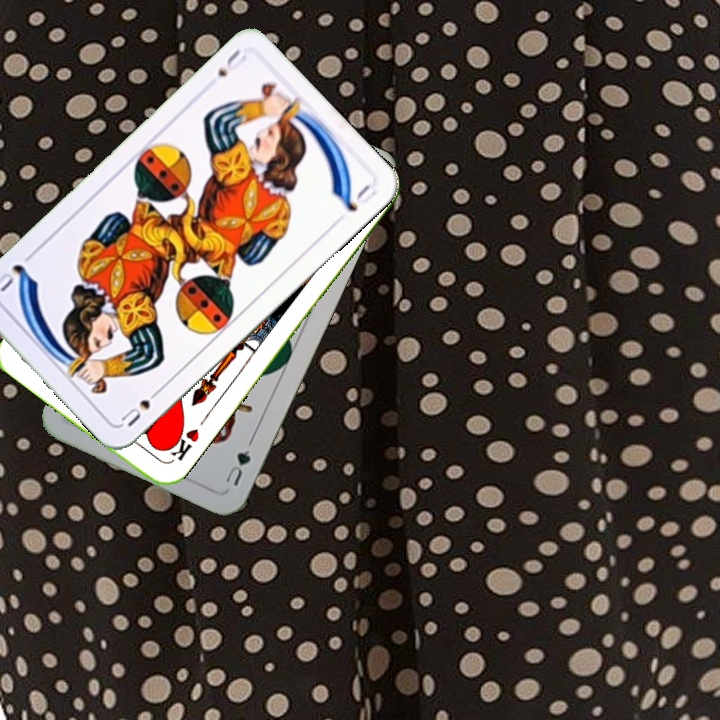GU: (221, 445, 254, 489)
HK: (161, 422, 202, 464)
SU: (116, 383, 166, 430), (213, 45, 249, 80)
